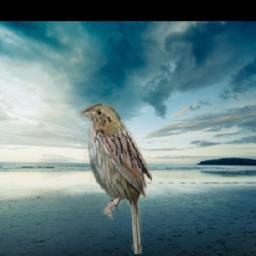Sparrow: (80, 101, 152, 254)
